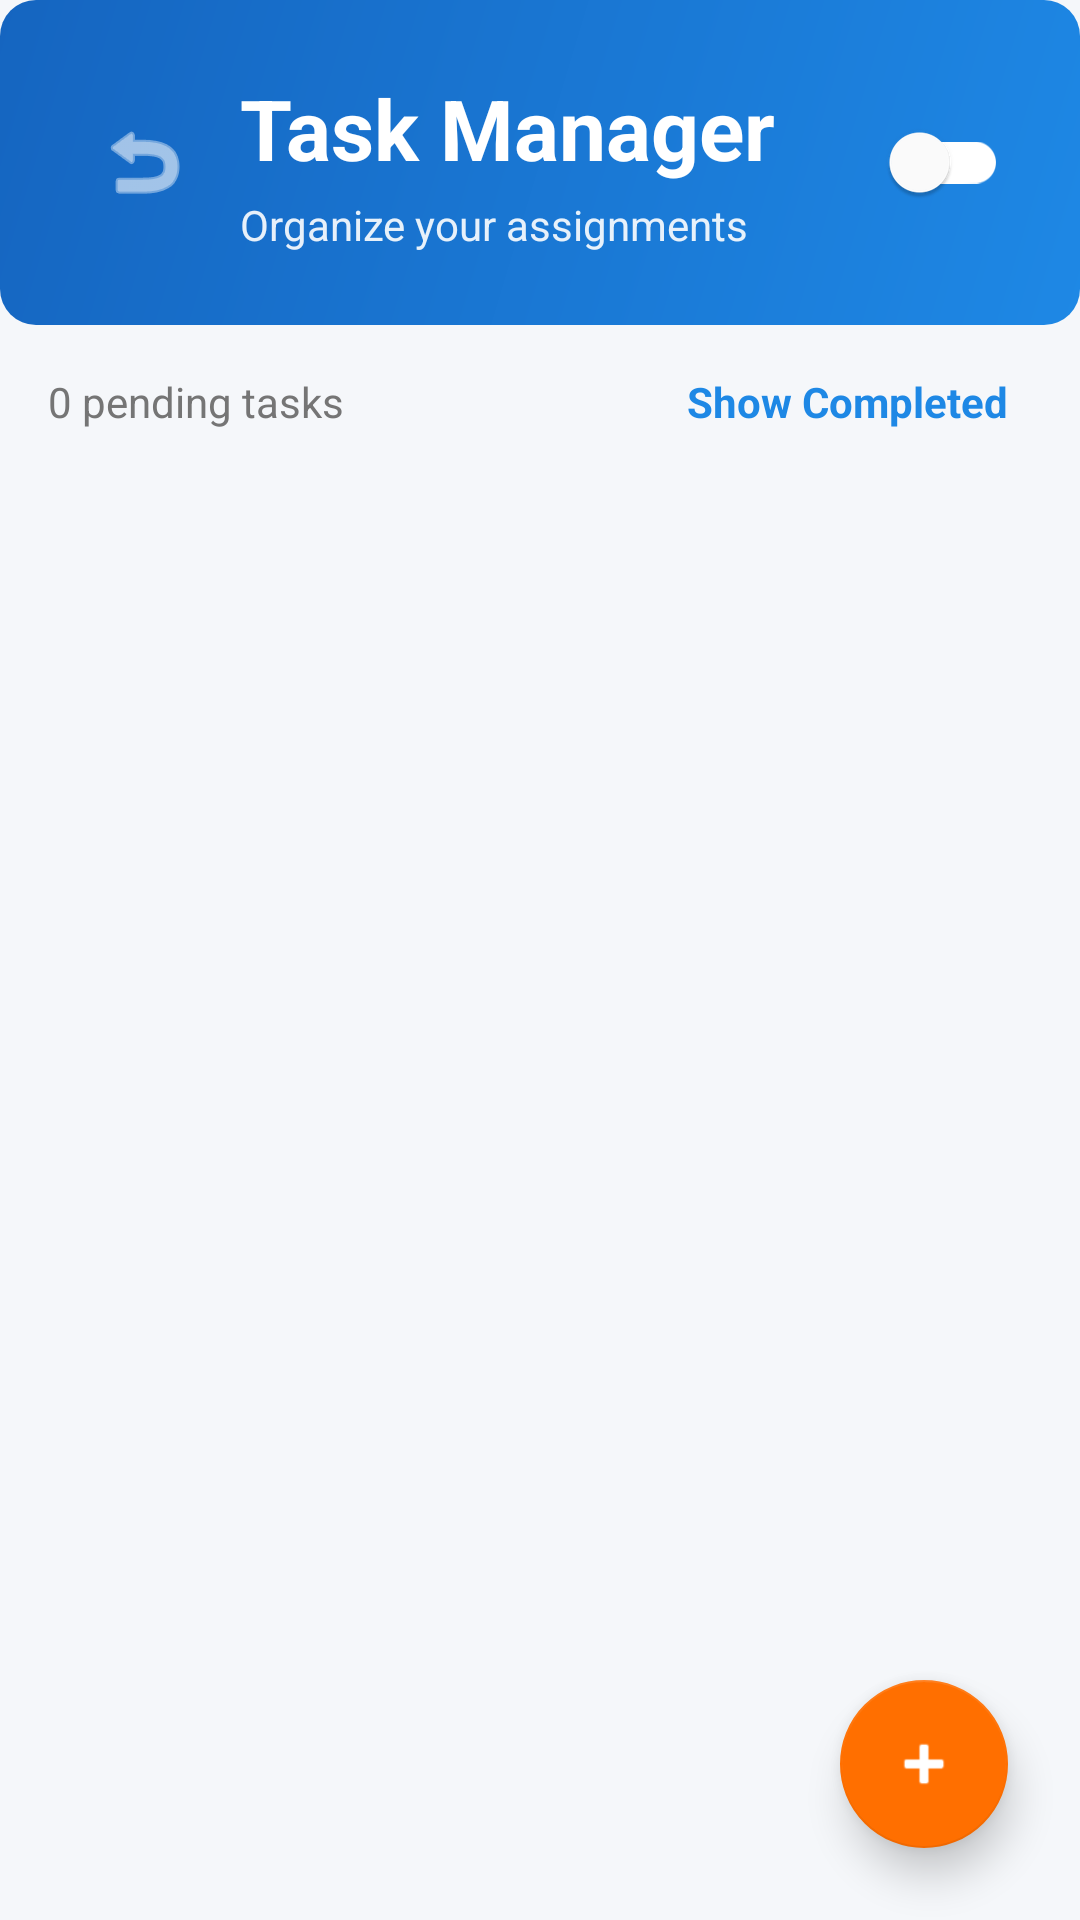

Locate icon controls on the screen. Image size 1080px×1920px, boxes as (left=x1, top=y1, right=x2, bottom=y2).
add: (left=840, top=1680, right=1008, bottom=1848)
revert: (left=111, top=131, right=180, bottom=194)
